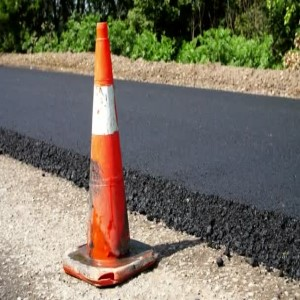traffic cone: (63, 21, 159, 289)
